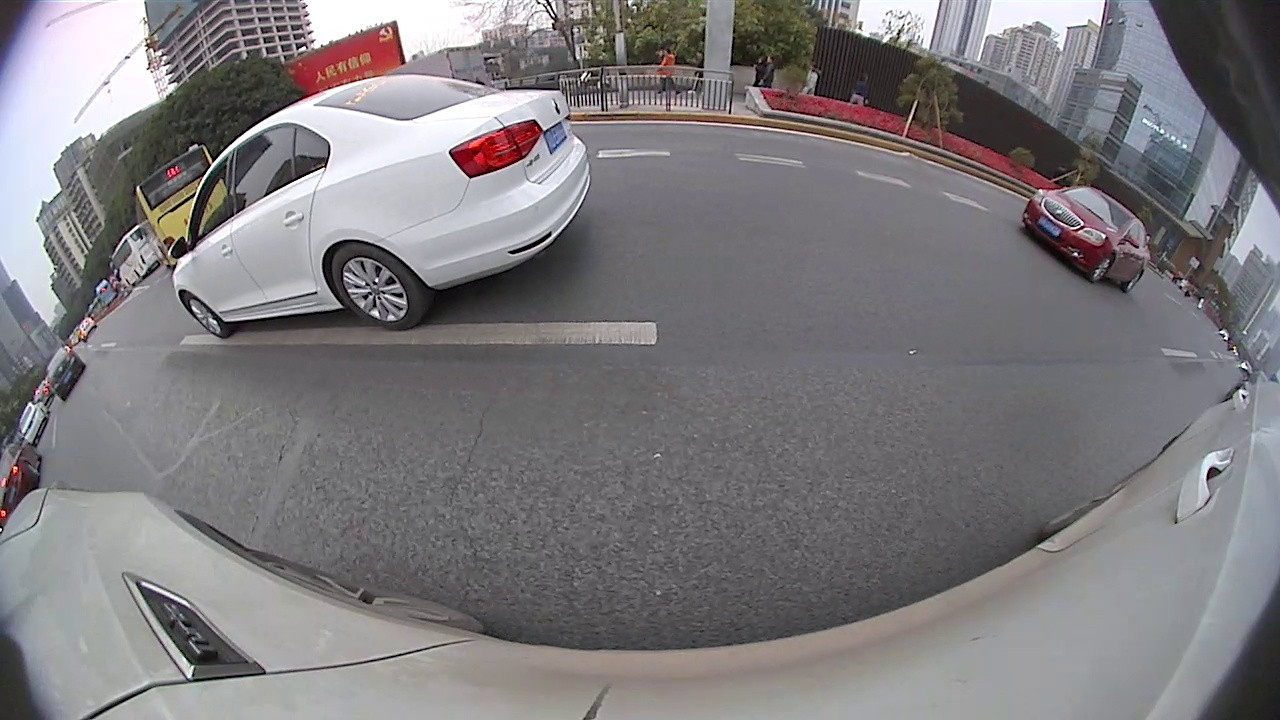bus: (132, 143, 230, 271), (106, 222, 168, 293)
car: (169, 70, 593, 347), (1021, 182, 1152, 294), (1, 442, 43, 524), (44, 342, 89, 404), (19, 404, 50, 449)
front: (180, 288, 228, 341), (1087, 253, 1115, 285)
rear: (329, 241, 432, 332), (1124, 267, 1145, 289)
